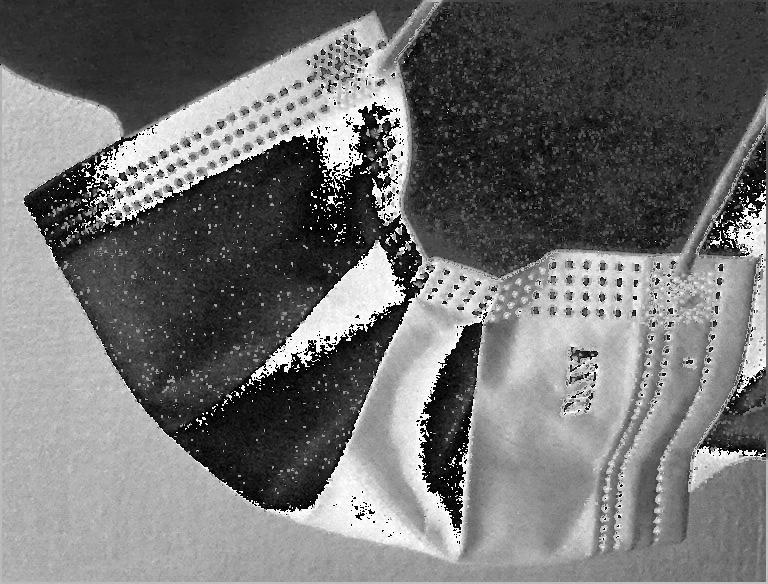High GSM: (250, 332, 593, 563)
